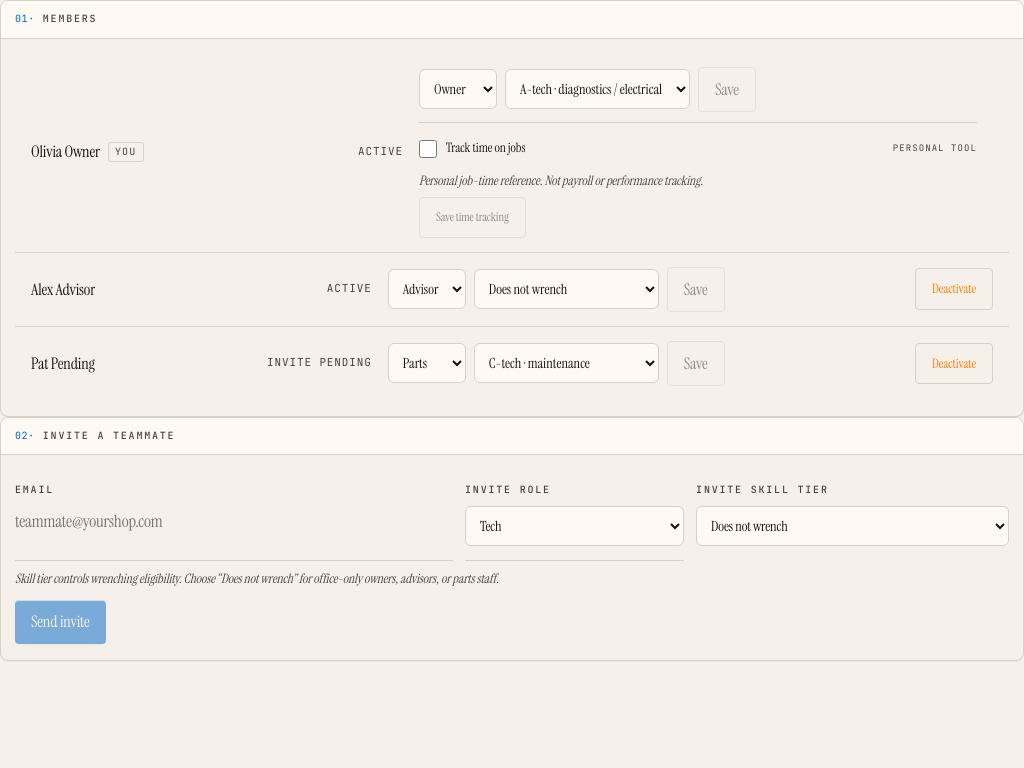
it: TeamSection Shop OS roles › reconciles an uncertain teammate save against the exact persisted value
Click the checkbox named "Track time on Olivia Owner's jobs".
click(428, 149)  # box x1=419 y1=140 x2=437 y2=158
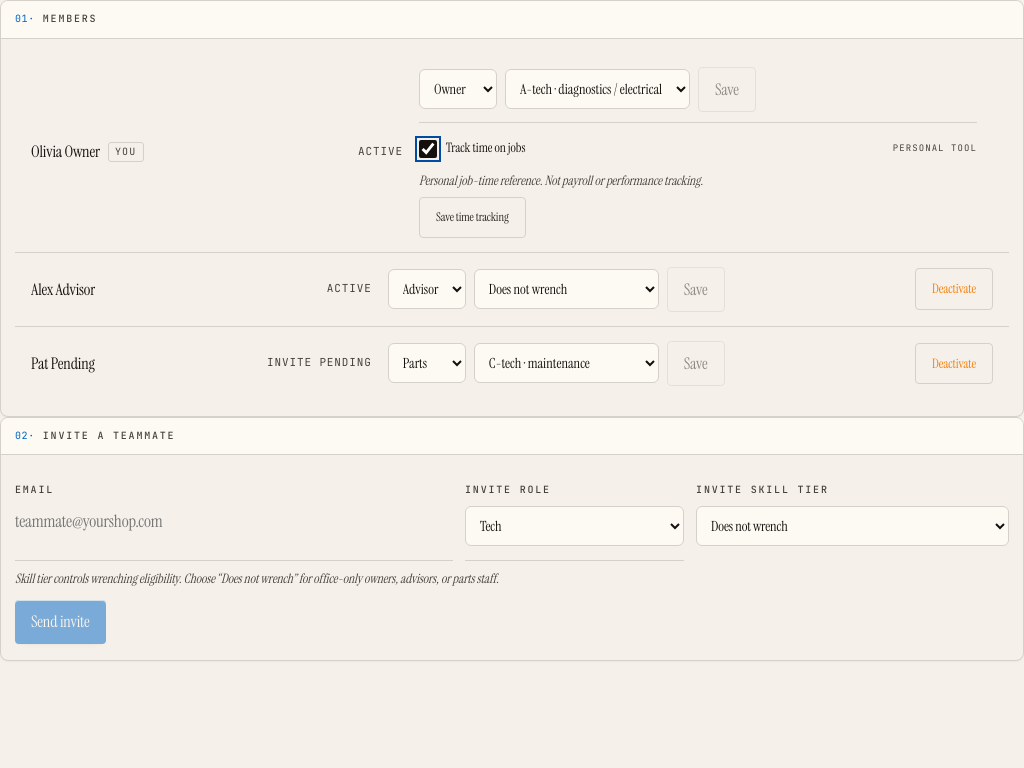
Click the button with aria-label "Save time tracking for Olivia Owner".
click(472, 217)  # box x1=419 y1=197 x2=526 y2=238
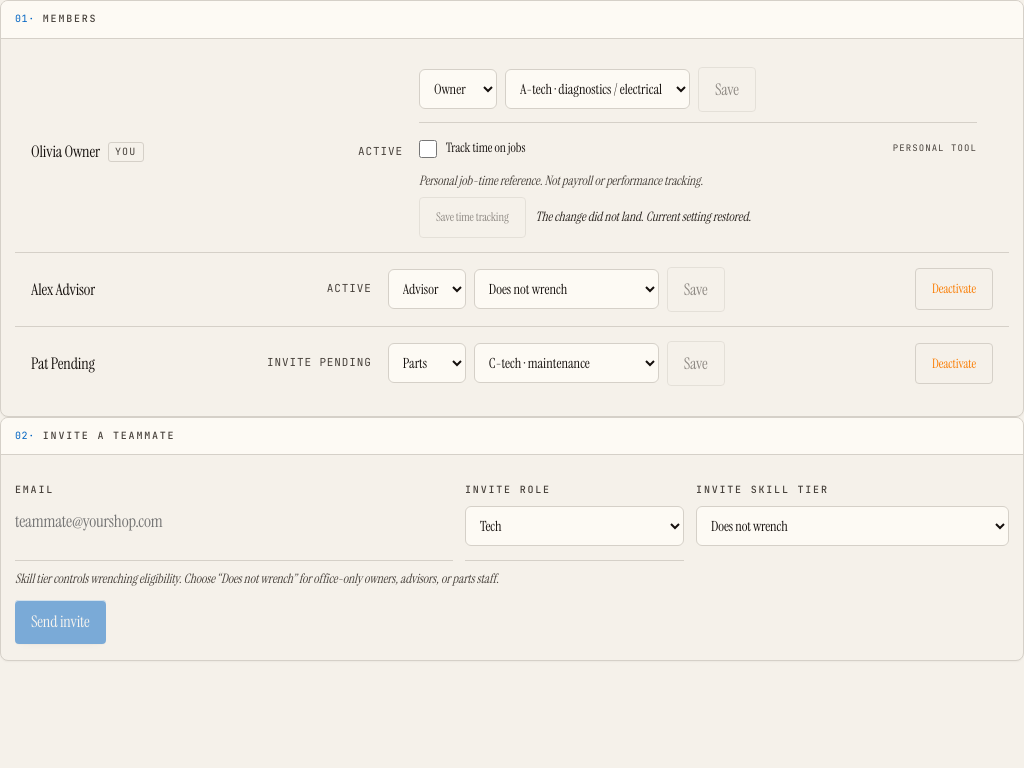
Now the checkbox named "Track time on Olivia Owner's jobs" is not checked, box x1=419 y1=140 x2=437 y2=158
Now the text "The change did not land. Current setting restored." is shown, box x1=536 y1=208 x2=751 y2=227
